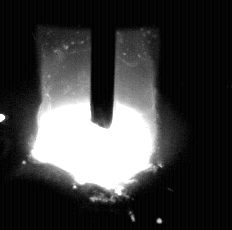arame: (92, 0, 115, 128)
poca: (36, 0, 158, 230)
